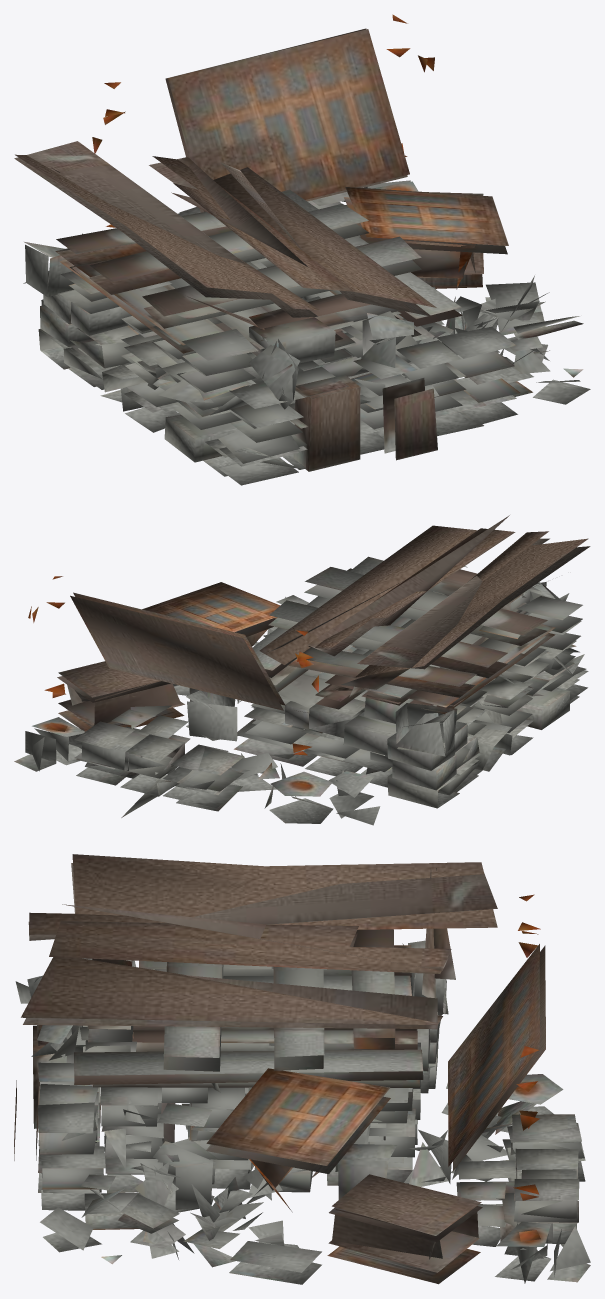
File: barricade.lod1.glb
The picture shows the model from 3 angles, top to bottom: view 1: azimuth 30°, elevation 25°; view 2: azimuth 150°, elevation 25°; view 3: azimuth 270°, elevation 25°; orthographic projection. The views are drawn at different scales.
Parts seen in each view (by area): view 1: barricade_lod1; view 2: barricade_lod1; view 3: barricade_lod1.
Boxes of the visible parts, bbox=[...] form: barricade_lod1: bbox=[14, 14, 590, 485]; barricade_lod1: bbox=[14, 515, 590, 825]; barricade_lod1: bbox=[14, 854, 590, 1284].
Bounding box in the file's own units: 3.96 × 2.03 × 4.02.
1 material, 1 textured.
